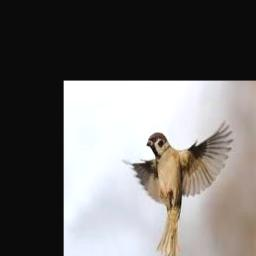Sparrow: (122, 119, 233, 256)
